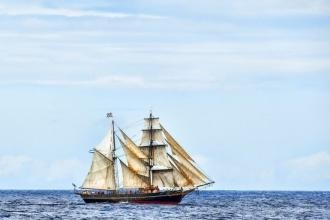fanchuan: (73, 106, 209, 209)
